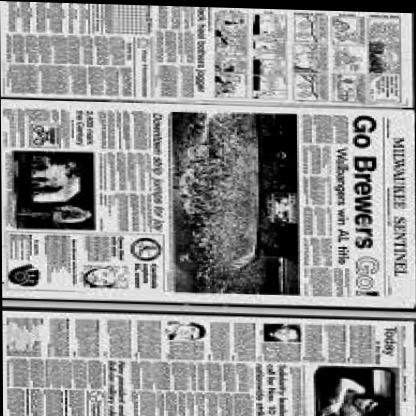Paper: (0, 3, 412, 416)
